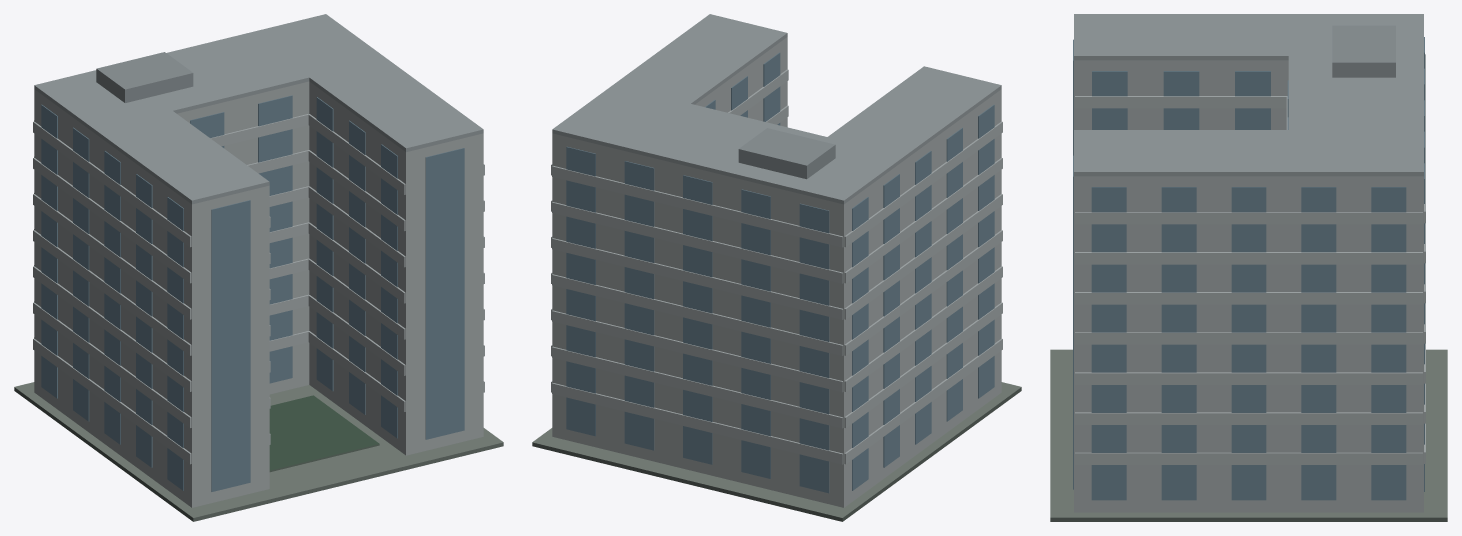
Rendered from generic-courtyard.glb.
The picture shows the model from 3 angles, left to right: view 1: azimuth 30°, elevation 25°; view 2: azimuth 150°, elevation 25°; view 3: azimuth 270°, elevation 25°; orthographic projection. The views are drawn at different scales.
Parts seen in each view (by area): view 1: generic-courtyard; view 2: generic-courtyard; view 3: generic-courtyard.
Boxes of the visible parts, x1,y1,x2,y2 form: generic-courtyard: (14,14,503,521); generic-courtyard: (532,14,1021,521); generic-courtyard: (1050,14,1447,521).
Bounding box in the file's own units: 1 × 1 × 1.
